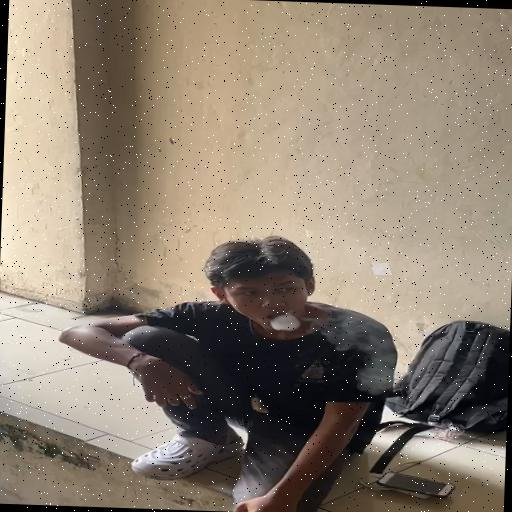asap rokok: (220, 261, 318, 338)
